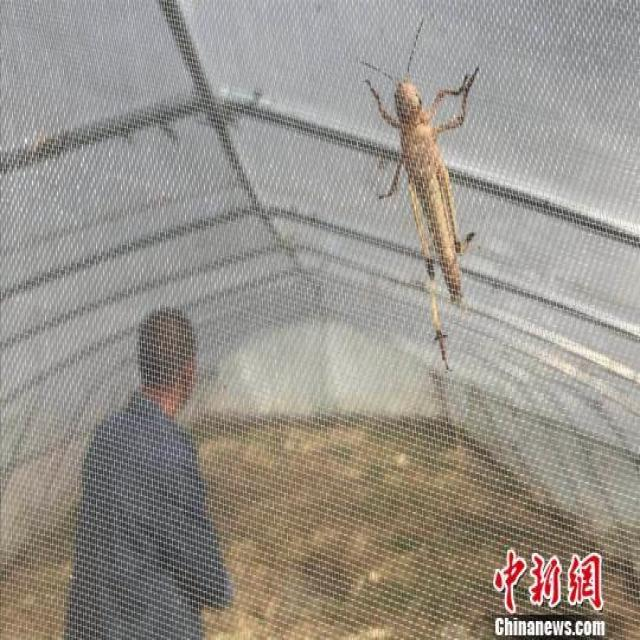ZhaMeng: (352, 19, 490, 371)
